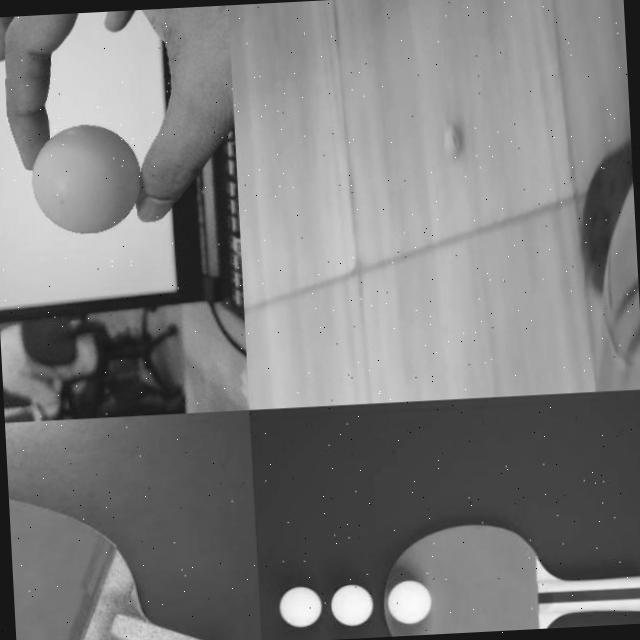ping-pong-ball: (30, 122, 141, 233), (388, 578, 432, 622), (278, 584, 322, 626), (332, 583, 374, 623), (441, 122, 461, 156)
